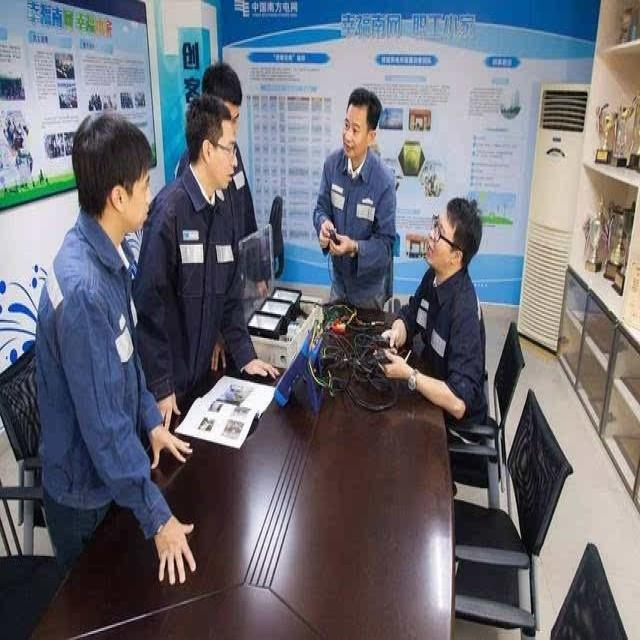helmet: (69, 140, 152, 316), (183, 124, 236, 263), (422, 256, 483, 368), (341, 112, 379, 211), (202, 83, 243, 169)
